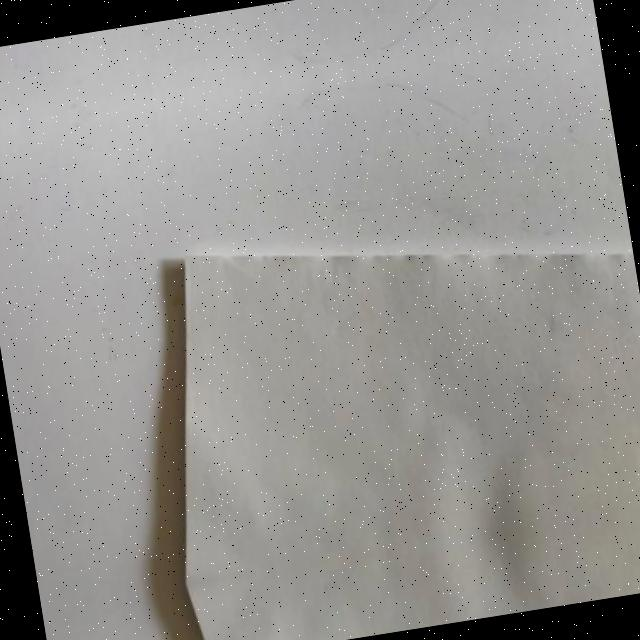paper: (132, 185, 640, 584), (183, 506, 640, 640)
